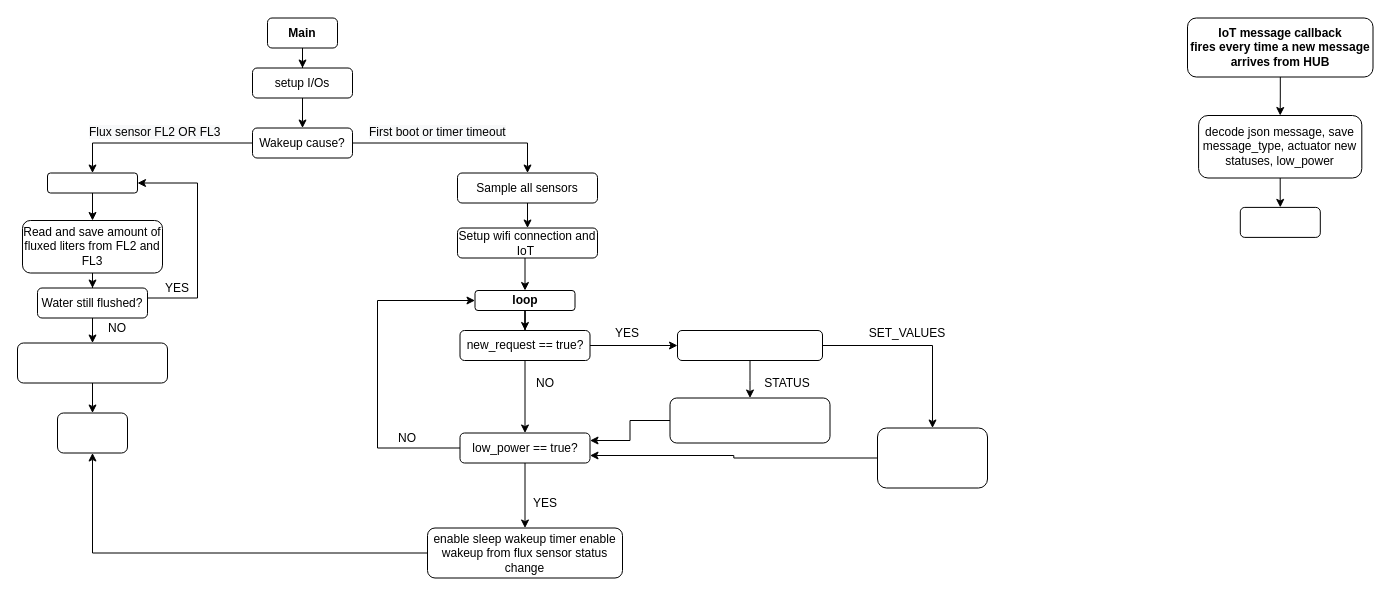
This 1391x595 diagram has some shape labels left out. Each missing label, with the centre of its shape:
Compute residual time to sleep and restart timer: the point at 92,362
Perform change actuator states and send ACK: the point at 932,457
received message_type?: the point at 749,345
Return: the point at 1279,221
Send message with sensors and actuators statuses: the point at 749,420
SLEEP: the point at 92,432
Wait 5 seconds: the point at 92,182
